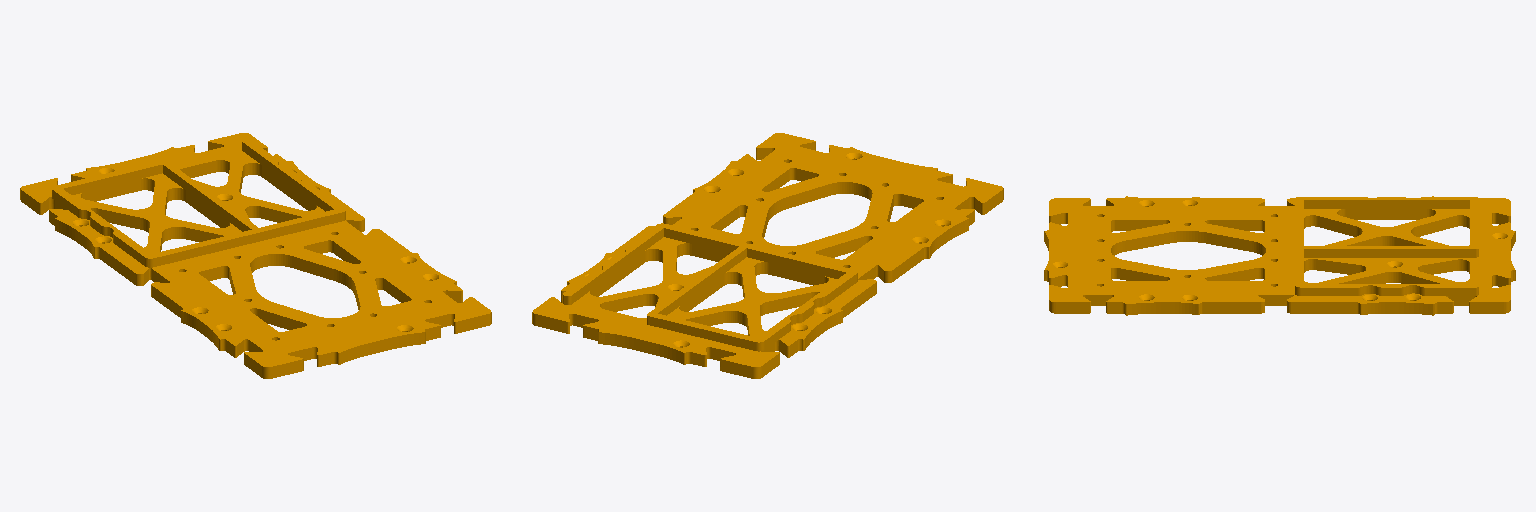
The robot description file, URDF, robot "hexapod":
<?xml version="1.0" ?>
<robot name="hexapod" xmlns:xacro="http://www.ros.org/wiki/xacro">
   <link name = "link_Floor">
      <pose> 0 0 0 0 0 0 </pose>

      <inertial>
         <mass value = "5"/>
         <origin rpy = "0 0 0" xyz = "0 0 0" />
         <inertia ixx ="0.4" ixy = "0" ixz = "0" iyy ="0.1" iyz = "0" izz = "0.1" />
      </inertial>

      <collision name = "collision_Floor">
         <geometry>
            <mesh filename = "package://hexapod/stl/Floor.stl" scale = "0.05 0.05 0.05"/>
            <!-- <box size = " 2 2 1" /> -->
         </geometry>
      </collision>

      <visual name="visual">
         <origin rpy = "0 0 0" xyz = "0 0 0" />
         <geometry>
            <mesh filename = "package://hexapod/stl/Floor.stl" scale = "0.05 0.05 0.05" />
           <!--  <box size = " 2 2 1" /> -->
         </geometry>

      </visual>
   </link>

</robot>

--- Facts derived from the render (not from the file) ---
Views: 3 orthographic renders of the robot side by side, from view 1: azimuth 30°, elevation 25°; view 2: azimuth 150°, elevation 25°; view 3: azimuth 270°, elevation 25°.
Robot: hexapod — 1 links, 0 joints (none); root link link_Floor; default pose: all joints at 0.
Visible links, largest first — view 1: link_Floor; view 2: link_Floor; view 3: link_Floor.
Link boxes in pixels (x1,y1,x2,y2): link_Floor: [20, 133, 491, 378]; link_Floor: [532, 133, 1003, 378]; link_Floor: [1044, 196, 1515, 315].
Size in the robot's own frame: 4.16 by 7.66 by 0.35 metres.
Meshes: 1 distinct files referenced, 1 mesh visuals loaded (1 binary STL).